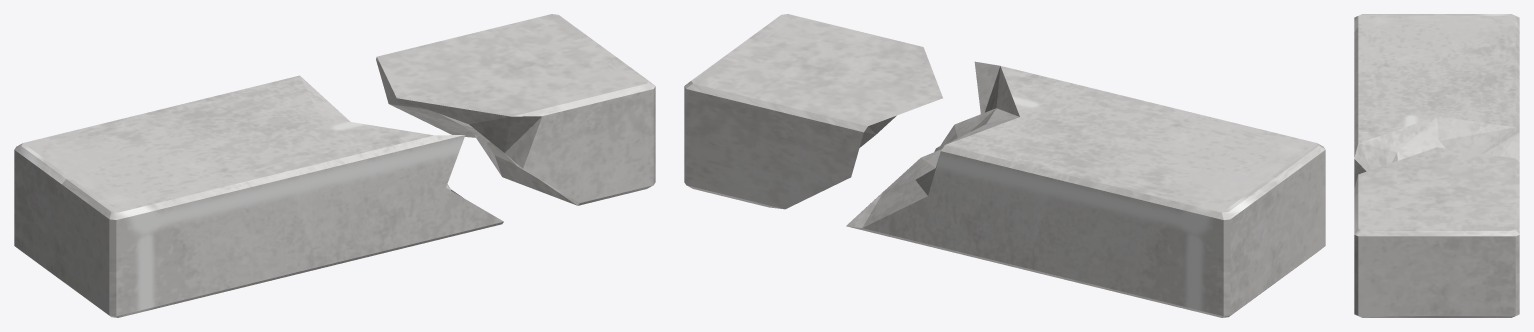
The model's file is mod_Brick_crack_000.FBX.
3 renders of one model, left to right at view 1: azimuth 30°, elevation 25°; view 2: azimuth 150°, elevation 25°; view 3: azimuth 270°, elevation 25°, orthographic. The views are drawn at different scales.
Parts seen in each view (by area): view 1: mod_Brick_001_1, mod_Brick_001_2; view 2: mod_Brick_001_1, mod_Brick_001_2; view 3: mod_Brick_001_2, mod_Brick_001_1.
Boxes of the visible parts, bbox=[...] form: mod_Brick_001_1: bbox=[14, 75, 503, 317]; mod_Brick_001_2: bbox=[376, 14, 655, 205]; mod_Brick_001_1: bbox=[846, 61, 1325, 317]; mod_Brick_001_2: bbox=[684, 14, 942, 209]; mod_Brick_001_2: bbox=[1354, 147, 1519, 317]; mod_Brick_001_1: bbox=[1354, 14, 1519, 187].
Bounding box in the file's own units: 125 × 23.08 × 39.73.
